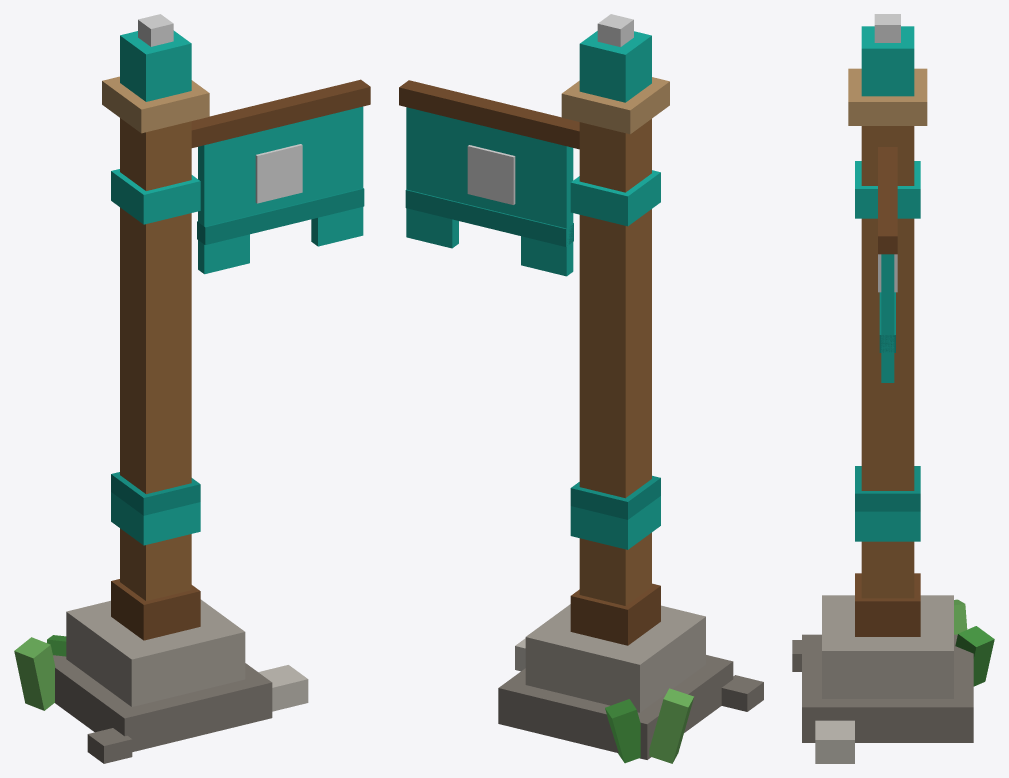
File: territory-marker-hummingbird.glb
The picture shows the model from 3 angles, left to right: view 1: azimuth 30°, elevation 25°; view 2: azimuth 150°, elevation 25°; view 3: azimuth 270°, elevation 25°; orthographic projection.
Parts seen in each view (by area): view 1: marker-post, banner; view 2: marker-post, banner; view 3: marker-post, banner.
Part boxes in pixels (x1,y1,x2,y2): marker-post: [14, 14, 308, 763]; banner: [191, 79, 370, 274]; marker-post: [498, 14, 763, 763]; banner: [399, 80, 579, 276]; marker-post: [792, 14, 994, 763]; banner: [878, 147, 897, 382].
Bounding box in the file's own units: 0.5581 × 1.15 × 0.3071.
